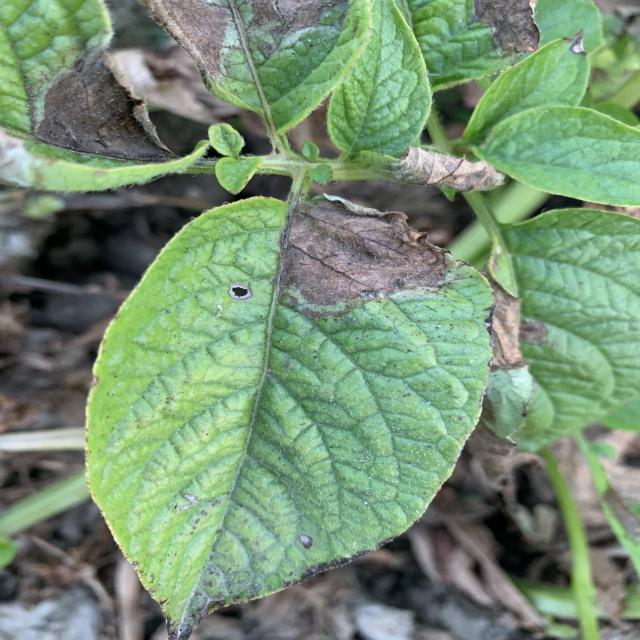lateblight: (280, 195, 452, 318), (142, 0, 372, 82), (33, 49, 175, 161), (473, 0, 540, 52), (490, 280, 527, 370)
